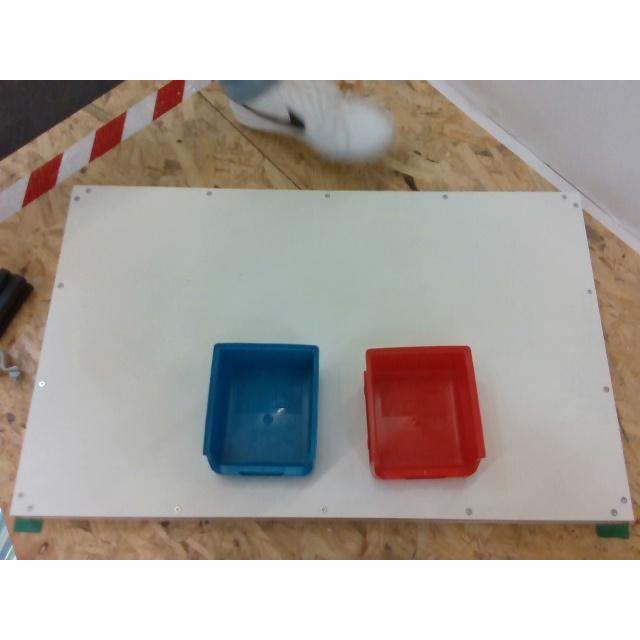S40_40_B: (0, 268, 32, 336)
container_box_blue: (204, 342, 318, 470)
container_box_red: (365, 344, 483, 476)
